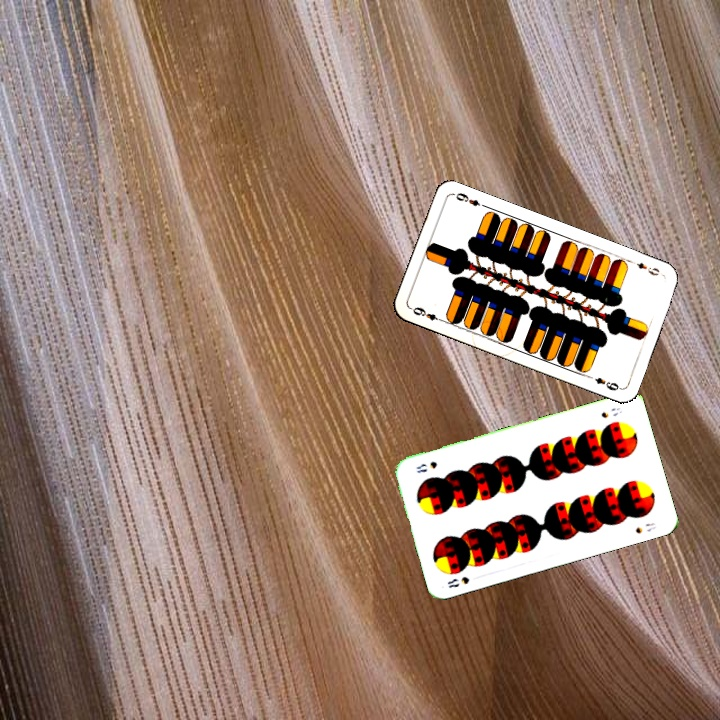E9: (407, 303, 446, 325), (627, 256, 662, 278)
S8: (443, 572, 472, 591), (597, 403, 624, 421)
